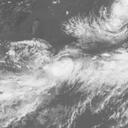cyclone: (36, 55, 76, 85), (82, 14, 127, 38)
